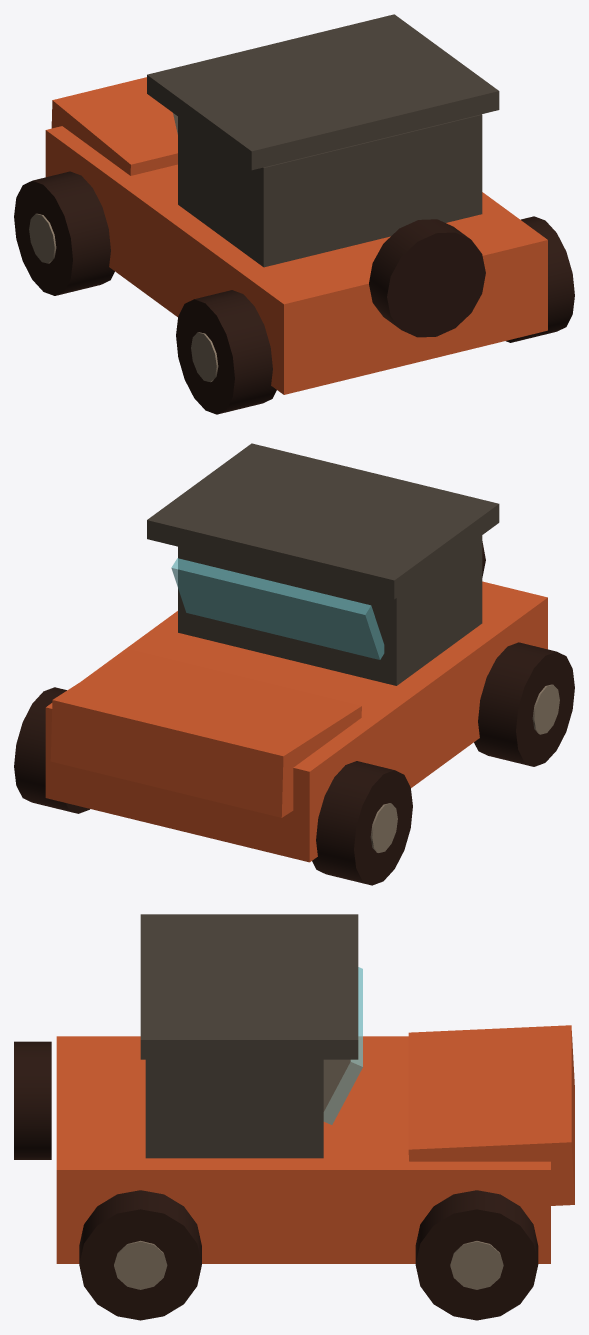
File: canyon-raider-neutral-rover-v1.glb
The picture shows the model from 3 angles, top to bottom: view 1: azimuth 30°, elevation 25°; view 2: azimuth 150°, elevation 25°; view 3: azimuth 270°, elevation 25°; orthographic projection. The views are drawn at different scales.
Visible parts, largest first — view 1: Canyon Raider · Survey Rover; view 2: Canyon Raider · Survey Rover; view 3: Canyon Raider · Survey Rover.
Part boxes in pixels (bbox=[...]): Canyon Raider · Survey Rover: bbox=[14, 14, 574, 414]; Canyon Raider · Survey Rover: bbox=[14, 443, 574, 885]; Canyon Raider · Survey Rover: bbox=[14, 914, 574, 1320].
Size of the model in its own units: 4.16 by 2.87 by 5.67.
